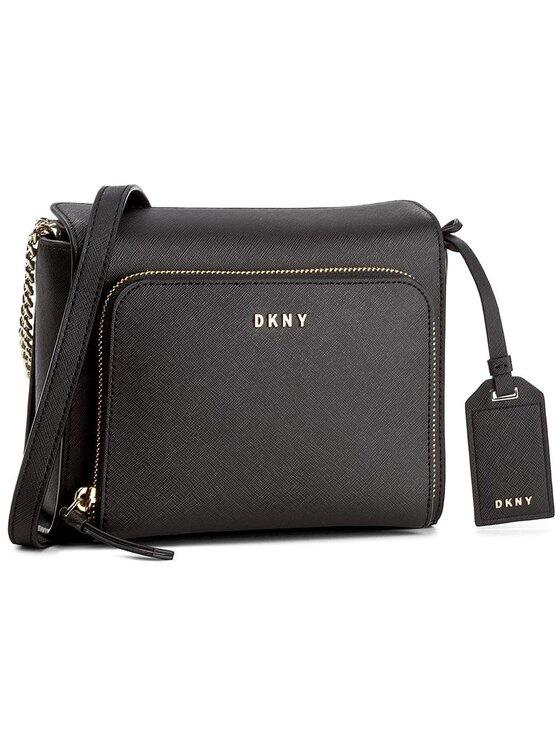DKNY: (254, 313, 308, 328), (495, 496, 533, 508)
